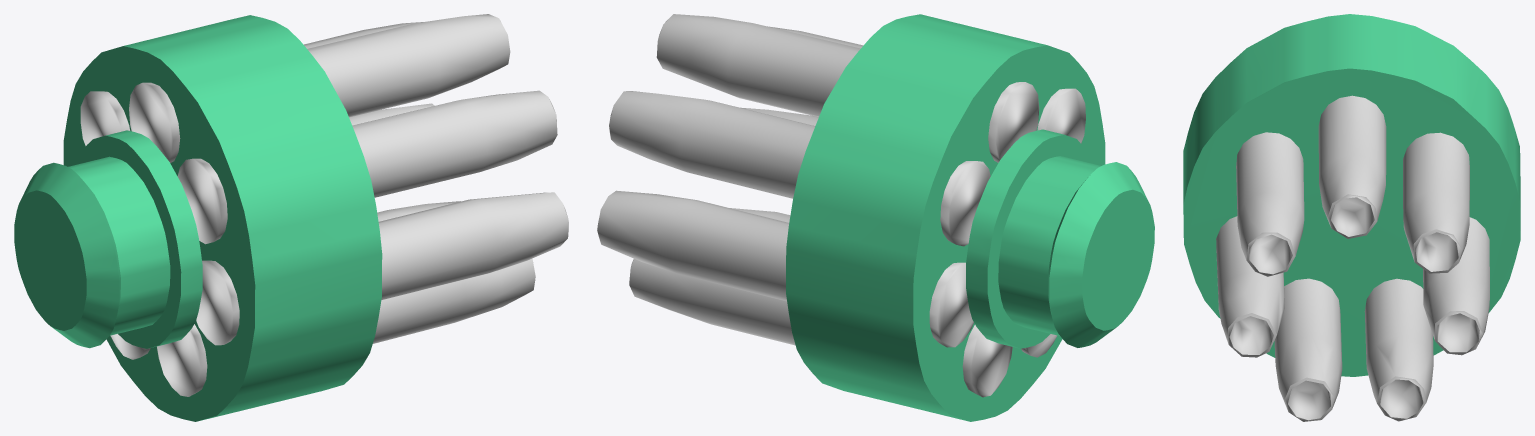
File: SpeedLoader7.fbx
3 renders of one model, left to right at view 1: azimuth 30°, elevation 25°; view 2: azimuth 150°, elevation 25°; view 3: azimuth 270°, elevation 25°, orthographic. The views are drawn at different scales.
Parts seen in each view (by area): view 1: SpeedLoader7; view 2: SpeedLoader7; view 3: SpeedLoader7.
Part boxes in pixels (x1=…): SpeedLoader7: x1=14, y1=14, x2=568, y2=421; SpeedLoader7: x1=597, y1=14, x2=1154, y2=421; SpeedLoader7: x1=1183, y1=14, x2=1520, y2=421.
Bounding box in the file's own units: 0.0503 × 0.0376 × 0.0372.
